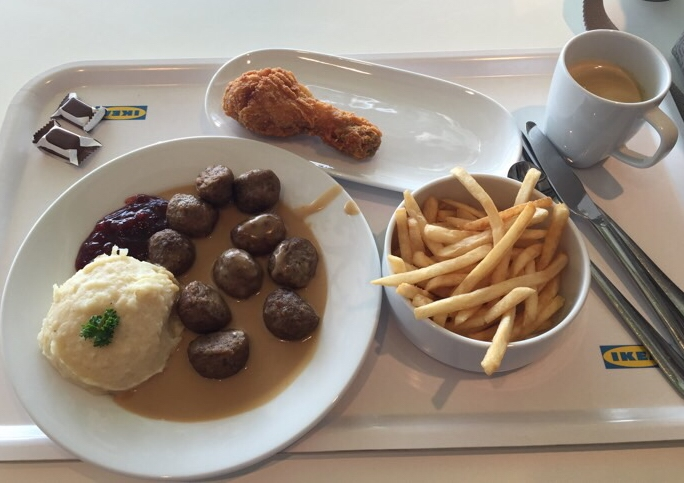meatballs: (192, 332, 247, 373), (216, 249, 261, 298), (270, 239, 318, 284), (181, 285, 229, 327), (265, 295, 312, 337), (230, 173, 280, 209), (169, 194, 215, 233), (233, 215, 286, 246), (152, 231, 193, 271), (197, 167, 232, 198)
